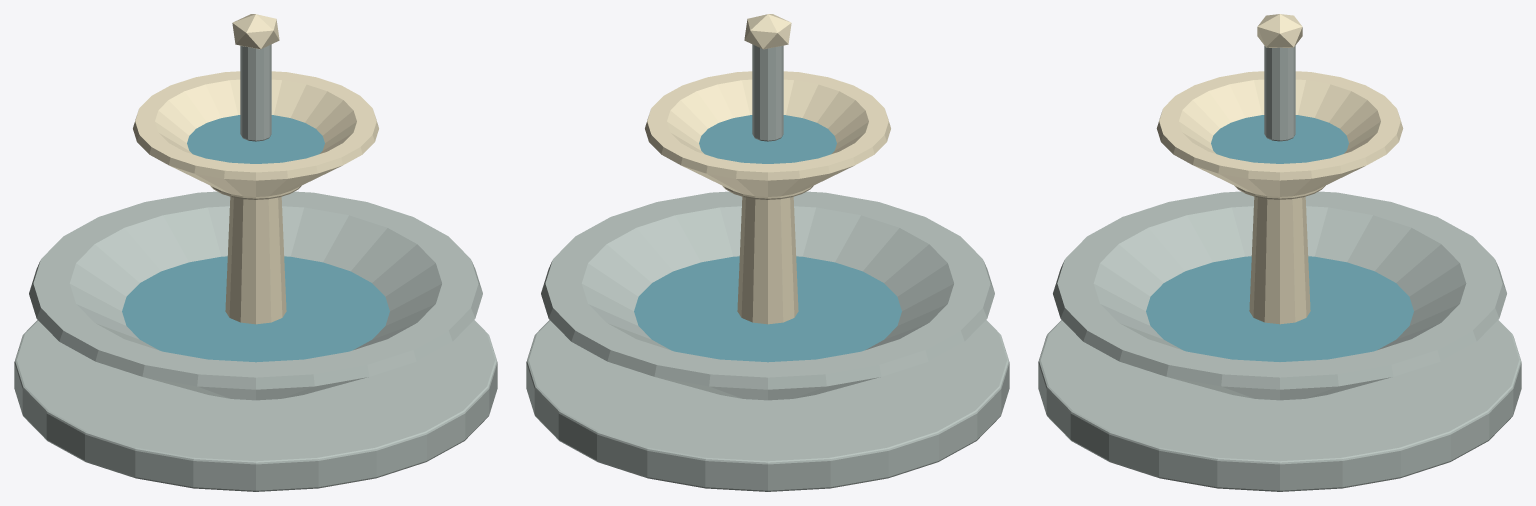
File: S053_tiered_fountain.glb
3 views of the same model, side by side, from view 1: azimuth 30°, elevation 25°; view 2: azimuth 150°, elevation 25°; view 3: azimuth 270°, elevation 25° (orthographic).
Visible parts, largest first — view 1: fountain_plinth, fountain_lower_basin, lower_water, upper_basin, fountain_stem, upper_water, upper_spout, spout_cap; view 2: fountain_plinth, fountain_lower_basin, lower_water, upper_basin, fountain_stem, upper_water, upper_spout, spout_cap; view 3: fountain_plinth, fountain_lower_basin, lower_water, upper_basin, fountain_stem, upper_water, upper_spout, spout_cap.
Part boxes in pixels (x1,y1,x2,y2): fountain_plinth: [14, 320, 497, 491]; fountain_lower_basin: [29, 191, 482, 400]; lower_water: [122, 256, 389, 362]; upper_basin: [133, 71, 378, 196]; fountain_stem: [225, 197, 286, 324]; upper_water: [187, 115, 324, 163]; upper_spout: [240, 44, 271, 141]; spout_cap: [232, 14, 279, 49]; fountain_plinth: [526, 320, 1009, 491]; fountain_lower_basin: [541, 191, 994, 400]; lower_water: [634, 256, 901, 362]; upper_basin: [645, 71, 890, 196]; fountain_stem: [737, 197, 798, 324]; upper_water: [699, 115, 836, 163]; upper_spout: [752, 44, 783, 141]; spout_cap: [744, 14, 791, 49]; fountain_plinth: [1038, 320, 1521, 491]; fountain_lower_basin: [1053, 191, 1506, 400]; lower_water: [1146, 256, 1413, 361]; upper_basin: [1156, 71, 1403, 196]; fountain_stem: [1249, 196, 1310, 324]; upper_water: [1211, 115, 1348, 163]; upper_spout: [1264, 46, 1295, 141]; spout_cap: [1257, 14, 1302, 47].
Bounding box in the file's own units: 2 × 1.72 × 2.
